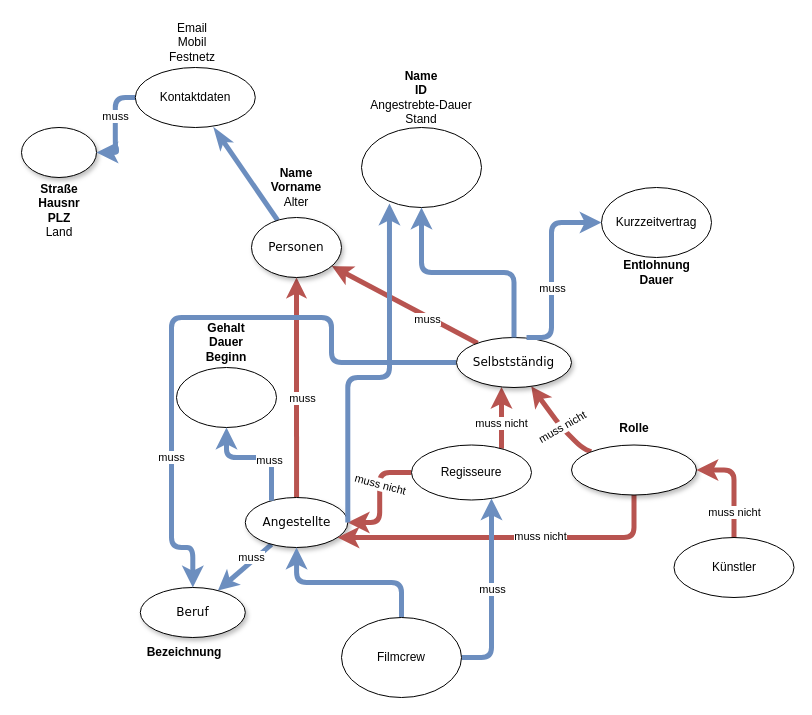
Some shapes in this 812 by 715 pixel diagram are drawn without their labels. Each missing label, with the centre of its shape:
"Adresse" goes at (59,153).
"Projekt" goes at (421,167).
"Schauspieler" goes at (634,471).
"Vertrag" goes at (226,397).
